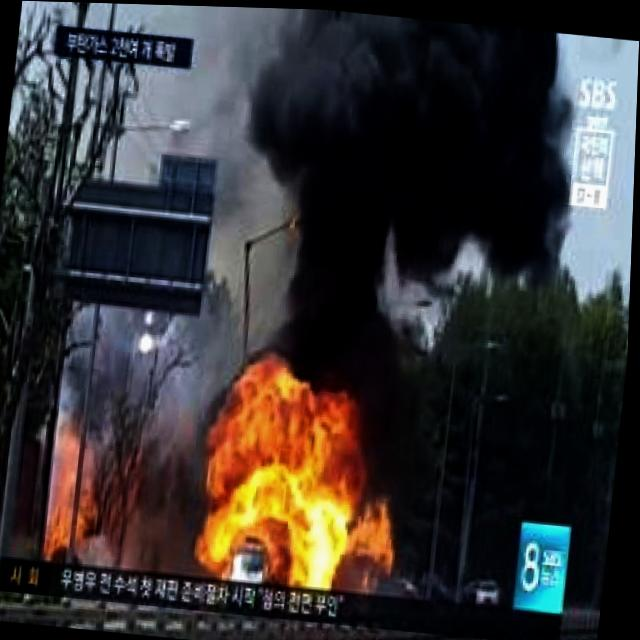helmet: (202, 360, 370, 591), (44, 486, 90, 559)
no_helmet: (207, 5, 587, 397), (97, 344, 204, 573)
